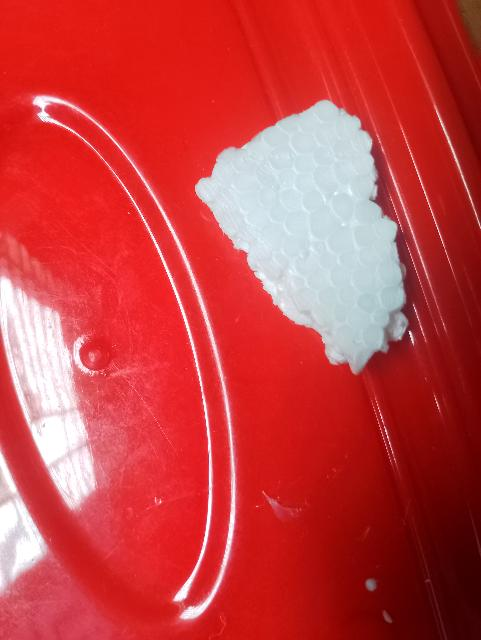cocksheet: (179, 52, 481, 372)
